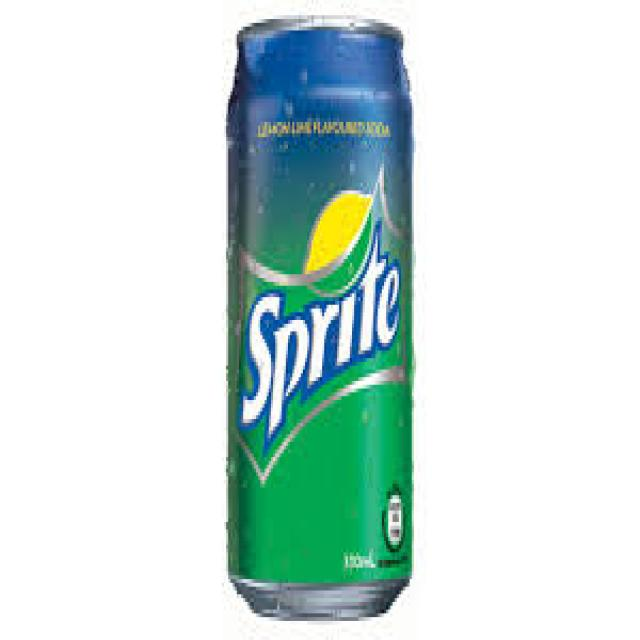aluminum_can: (228, 23, 414, 619)
